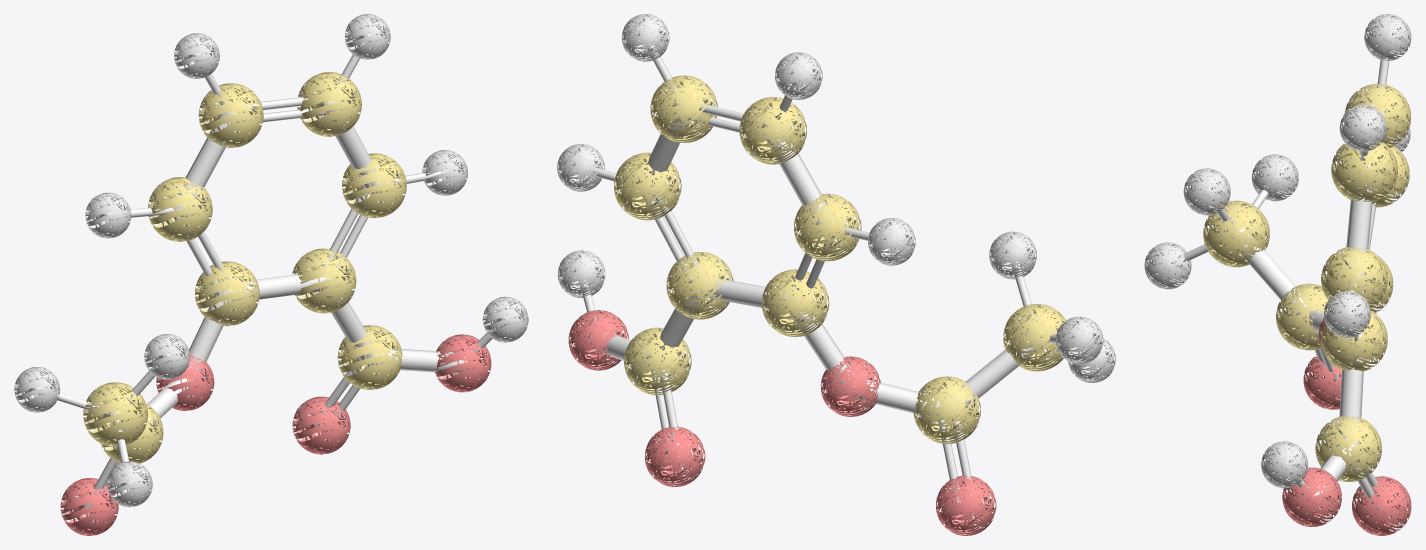
The model's file is Aspirin_2157.gltf.
The picture shows the model from 3 angles, left to right: view 1: azimuth 30°, elevation 25°; view 2: azimuth 150°, elevation 25°; view 3: azimuth 270°, elevation 25°; orthographic projection. The views are drawn at different scales.
Parts seen in each view (by area): view 1: node-geom35, node-geom38, node-geom34, node-geom32, node-geom30, node-geom33, node-geom31, node-geom36, node-geom28, node-geom29, node-geom27, node-geom26 (+16 smaller); view 2: node-geom34, node-geom37, node-geom32, node-geom35, node-geom30, node-geom33, node-geom31, node-geom36, node-geom38, node-geom29, node-geom28, node-geom26 (+16 smaller); view 3: node-geom38, node-geom35, node-geom36, node-geom33, node-geom28, node-geom27, node-geom37, node-geom31, node-geom34, node-geom45, node-geom42, node-geom46 (+11 smaller).
Part boxes in pixels (x1,y1,x2,y2): node-geom35: (297,72,361,136); node-geom38: (83,382,147,446); node-geom34: (198,83,263,147); node-geom32: (148,177,212,241); node-geom30: (195,261,259,326); node-geom33: (342,153,406,218); node-geom31: (292,248,356,313); node-geom36: (337,325,402,389); node-geom28: (292,396,350,454); node-geom29: (60,478,118,535); node-geom27: (435,334,491,392); node-geom26: (156,353,214,410); node-geom34: (739,97,806,164); node-geom37: (913,376,980,443); node-geom32: (794,193,861,261); node-geom35: (650,75,717,142); node-geom30: (761,269,829,336); node-geom33: (614,152,681,220); node-geom31: (666,252,733,319); node-geom36: (624,327,691,395); node-geom38: (1003,304,1070,371); node-geom29: (936,475,996,535); node-geom28: (644,426,705,486); node-geom26: (820,356,880,416); node-geom38: (1203,200,1269,267); node-geom35: (1331,137,1397,202); node-geom36: (1315,416,1381,481); node-geom33: (1321,247,1387,309); node-geom28: (1352,476,1411,535); node-geom27: (1282,467,1341,526); node-geom37: (1276,283,1332,350); node-geom31: (1321,310,1387,371); node-geom34: (1344,83,1410,147); node-geom45: (1183,168,1230,215); node-geom42: (1339,104,1386,151); node-geom46: (1261,441,1308,488).
Bounding box in the file's own units: 7.75e-10 × 6.44e-10 × 3.4e-10.
